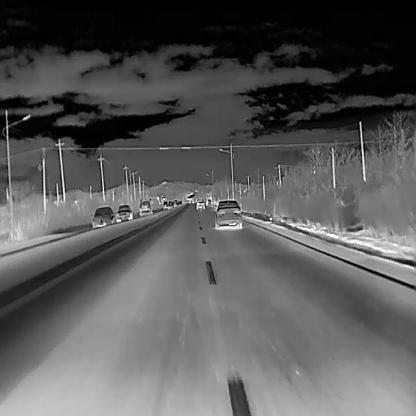car: (215, 199, 243, 230), (91, 206, 115, 229), (115, 204, 133, 223), (139, 197, 154, 217), (195, 199, 205, 211), (167, 199, 174, 209), (162, 200, 168, 210), (205, 198, 211, 206), (173, 198, 177, 206), (178, 199, 182, 204), (176, 201, 179, 205)
